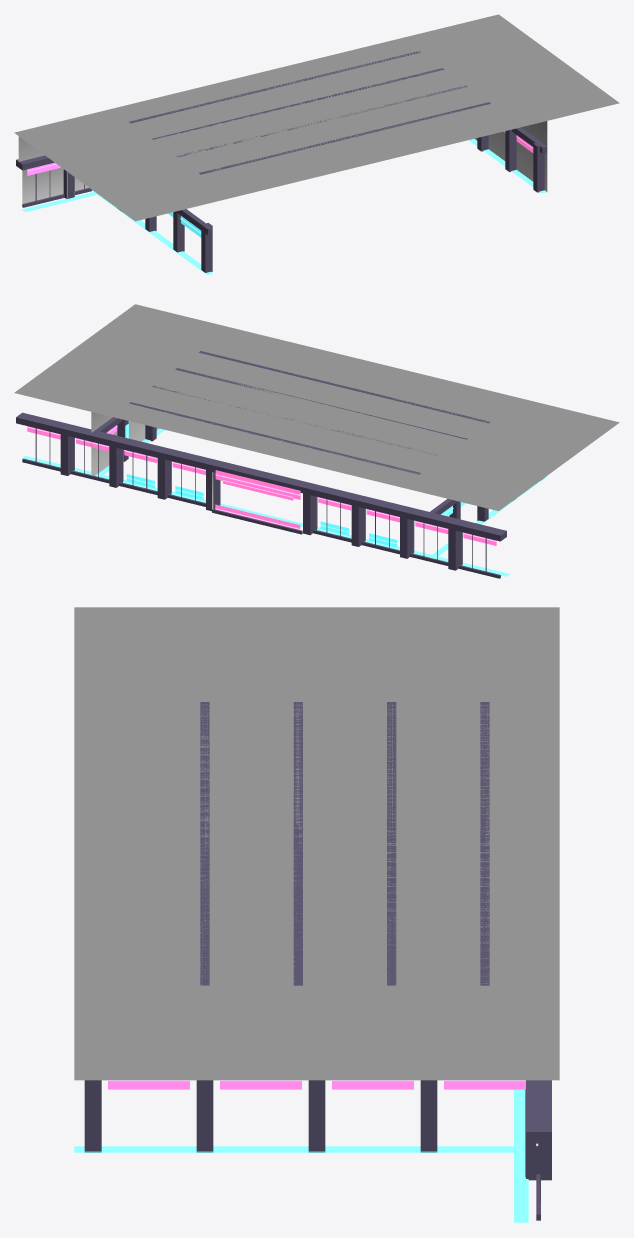
The model's file is showroom.glb.
The picture shows the model from 3 angles, top to bottom: view 1: azimuth 30°, elevation 25°; view 2: azimuth 150°, elevation 25°; view 3: azimuth 270°, elevation 25°; orthographic projection. The views are drawn at different scales.
Visible parts, largest first — view 1: sr_walls, sr_frame, sr_glow_cyan; view 2: sr_walls, sr_frame, sr_glow_pink, sr_glow_cyan, sr_neon_pink, sr_neon_cyan; view 3: sr_walls, sr_frame, sr_glow_cyan, sr_glow_pink.
Boxes of the visible parts, x1,y1,x2,y2 form: sr_walls: [14, 14, 619, 221]; sr_frame: [16, 51, 547, 272]; sr_glow_cyan: [22, 138, 547, 274]; sr_walls: [14, 304, 619, 510]; sr_frame: [16, 351, 543, 578]; sr_glow_pink: [27, 421, 496, 545]; sr_glow_cyan: [22, 423, 547, 576]; sr_neon_pink: [27, 426, 496, 541]; sr_neon_cyan: [26, 424, 507, 575]; sr_walls: [74, 607, 559, 1080]; sr_frame: [84, 702, 551, 1220]; sr_glow_cyan: [74, 1089, 528, 1222]; sr_glow_pink: [108, 1081, 525, 1089].
Size of the model in its own units: 60 by 8.55 by 26.
